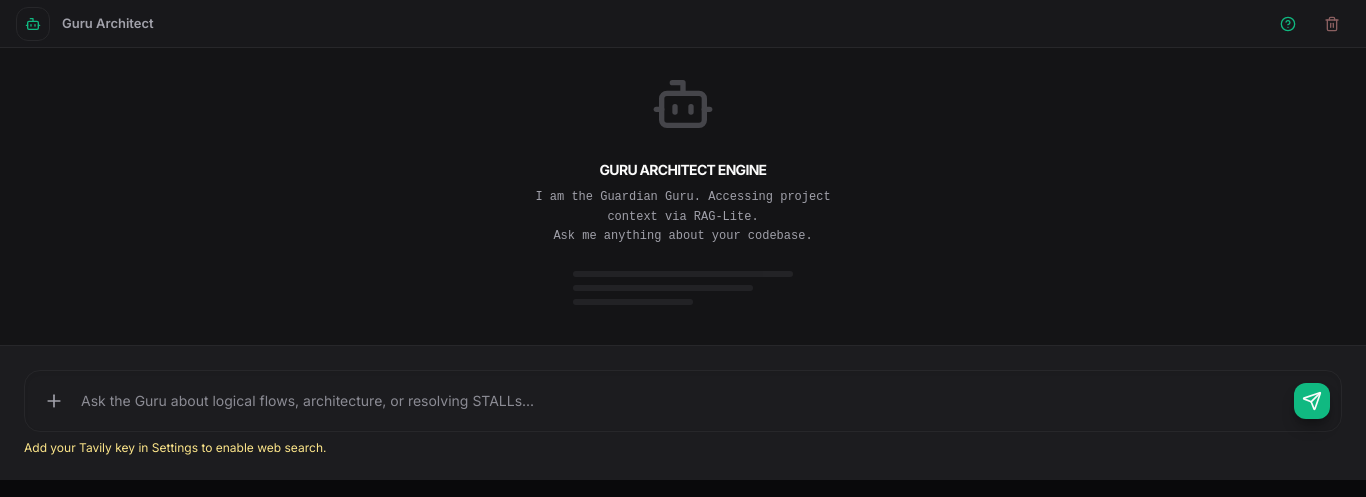
Test case: ChatView › sends message and renders guru response
The width and height of the screenshot is (1366, 497).
Step 1. Type "Hello Guardian" into the field with placeholder "Ask the Guru" → (683, 400), box x1=24 y1=370 x2=1342 y2=432
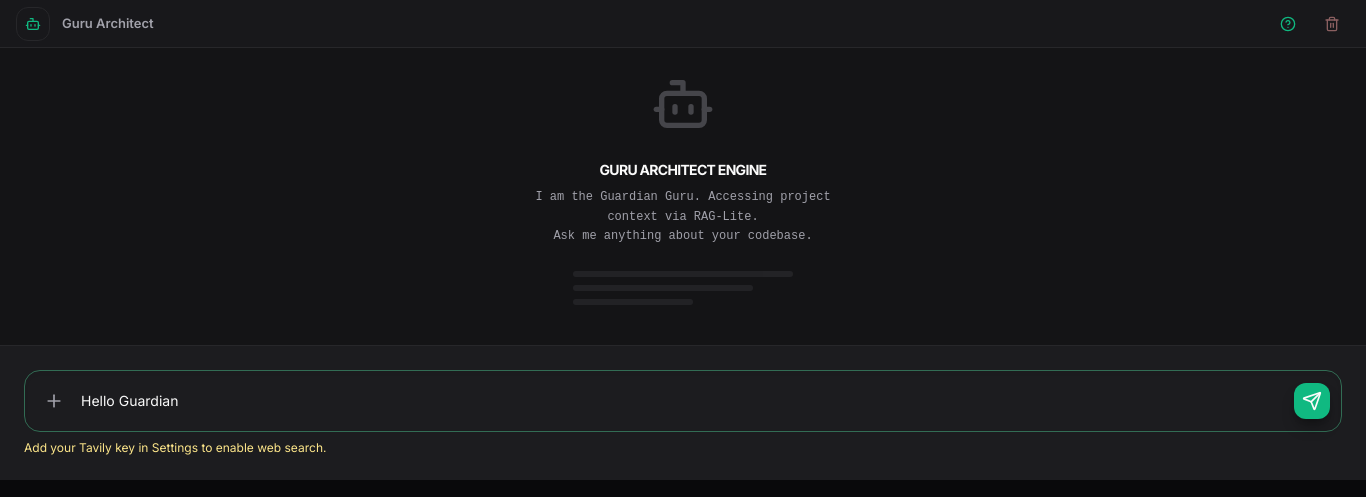
Step 2. Click the button named "Send" → (1312, 400), box x1=1294 y1=382 x2=1330 y2=418
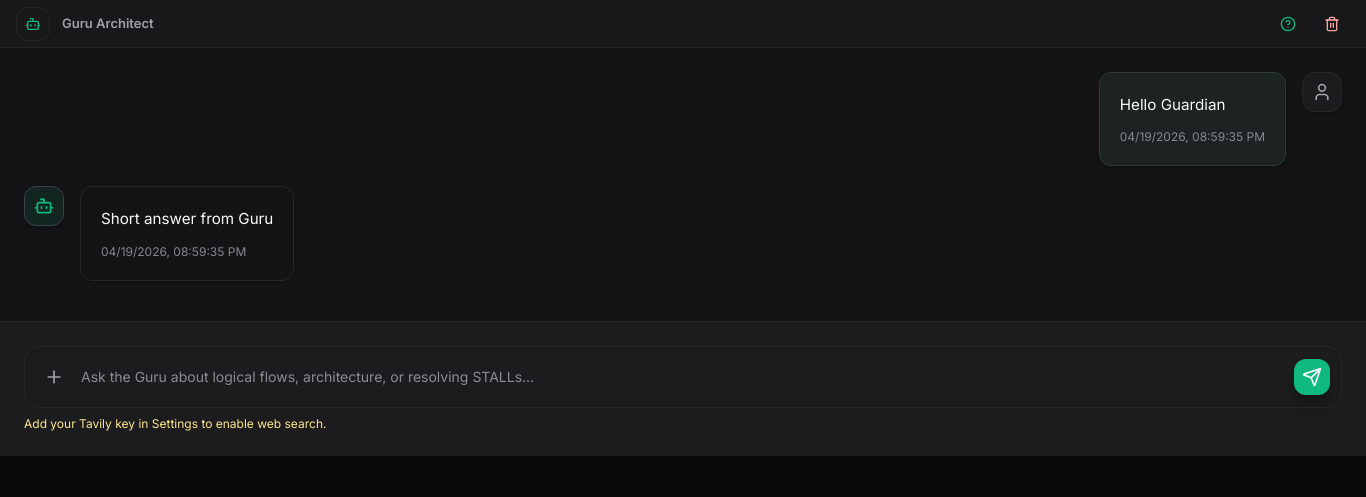
Expected: the text "Short answer from Guru" is shown, x1=101 y1=207 x2=273 y2=232
